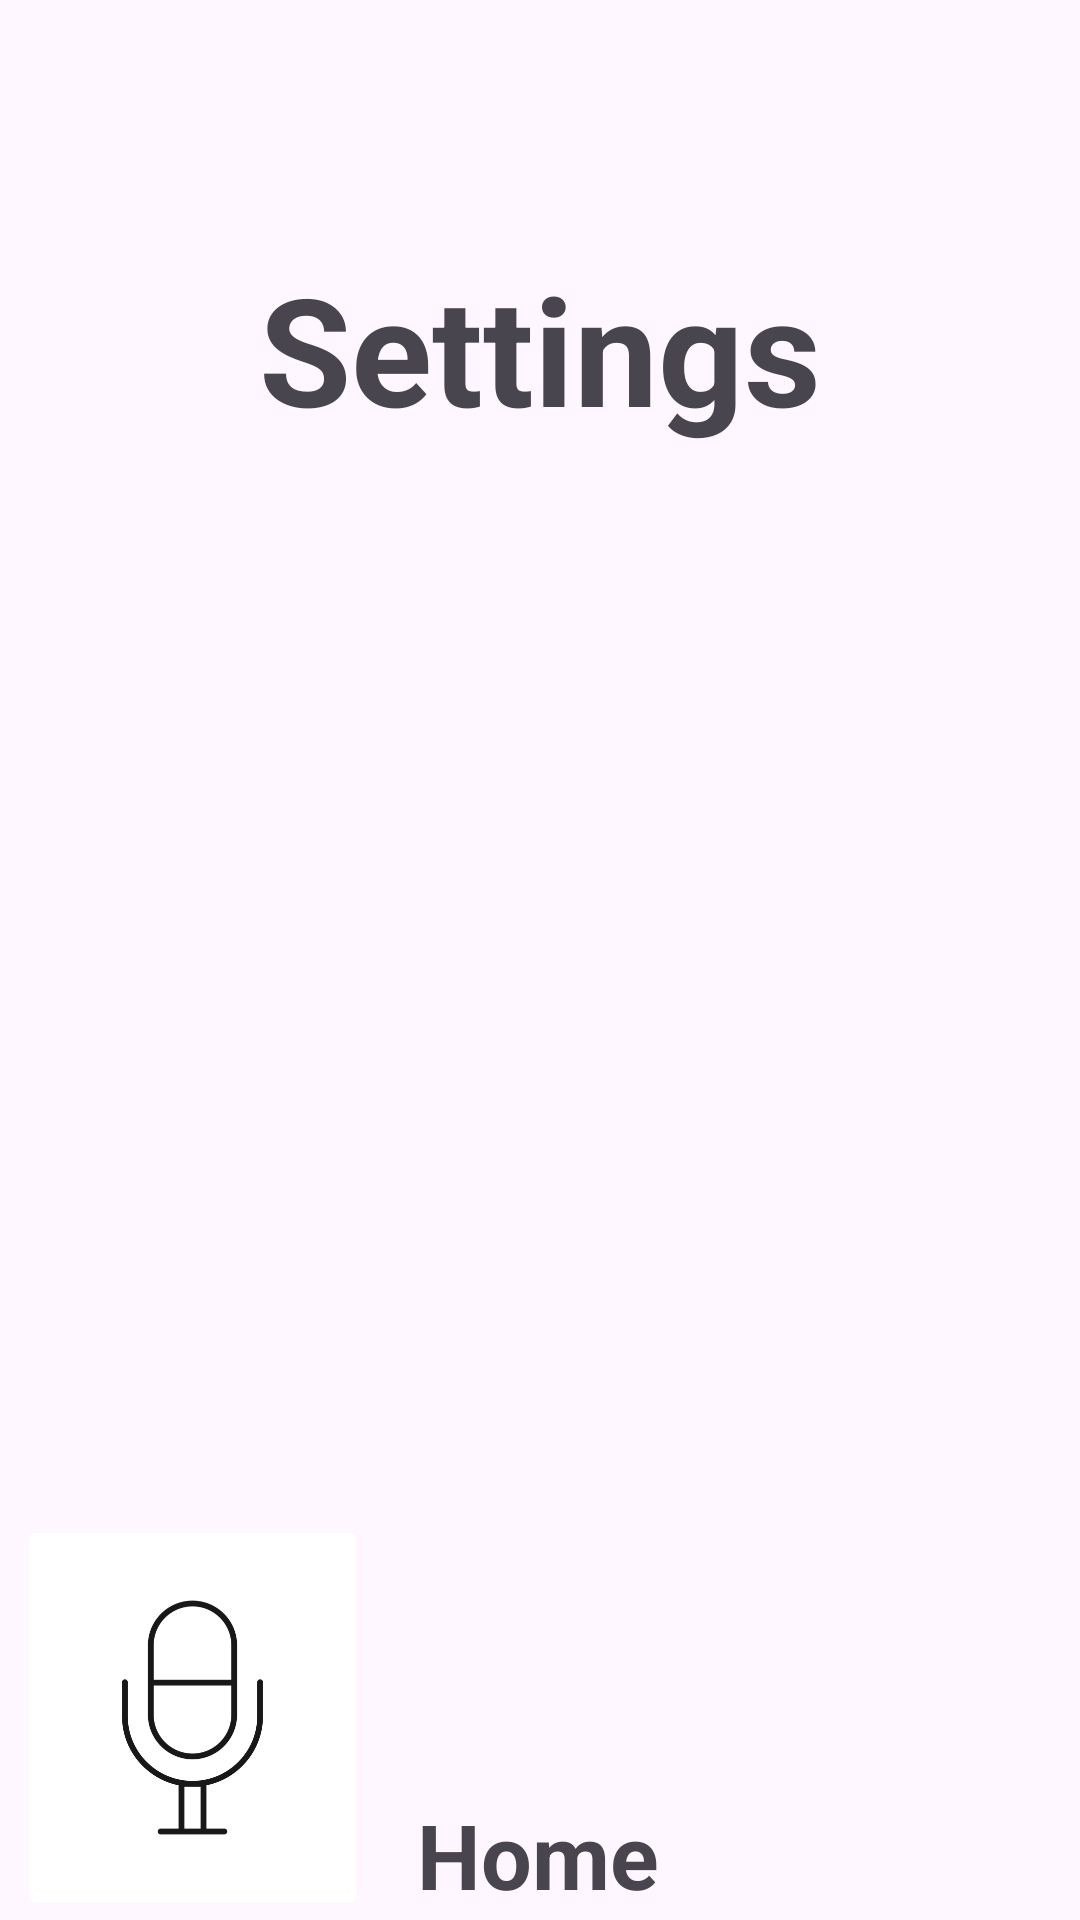

Point at icon controls on the screen. Image size 1080 × 1920, points as (x,y).
microphone stroke baca: (192,1717)
